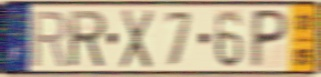6: (213, 8, 244, 71)
7: (163, 10, 195, 68)
P: (247, 7, 291, 71)
R: (68, 8, 109, 69), (31, 9, 71, 69)
X: (118, 7, 155, 71)
